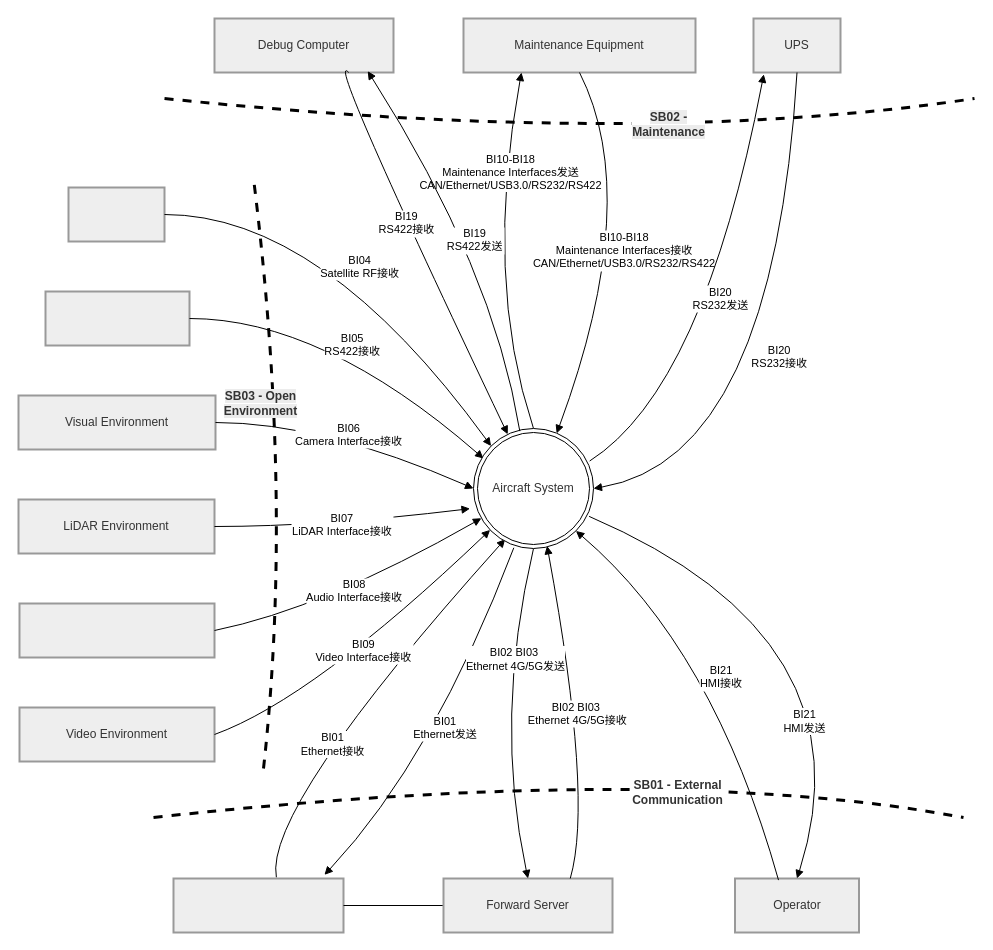
Image size: 993x950. Some labels were removed from this diagram. The shapes that lost their labels are listed below. From the top down, each one's centre as x and y in pixels, then its label:
the point at 116,214: GNSS
the point at 117,318: RTK Service
the point at 116,630: Audio Environment
the point at 258,905: Big Data Platform
